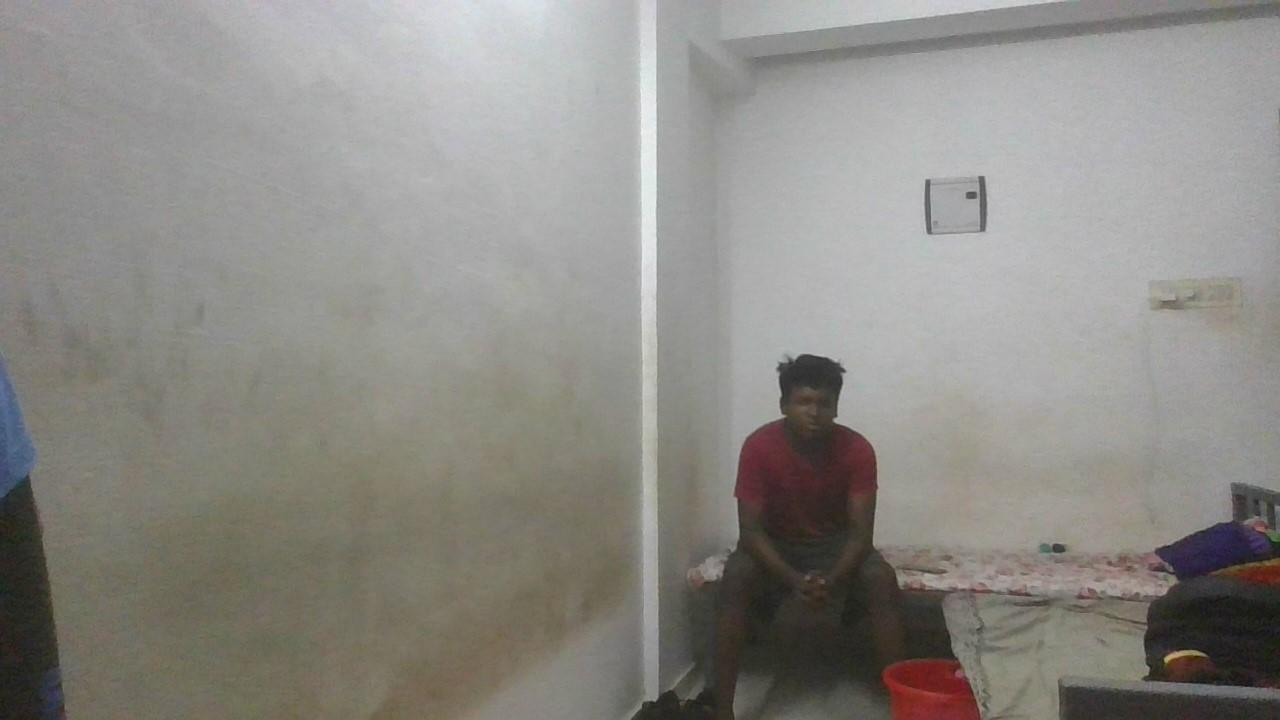nohelmet: (776, 353, 846, 447)
